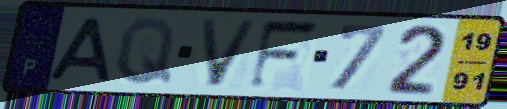2: (385, 22, 451, 98)
7: (331, 21, 390, 94)
A: (44, 15, 114, 84)
F: (245, 18, 322, 93)
Q: (113, 15, 178, 87)
V: (197, 17, 263, 90)
